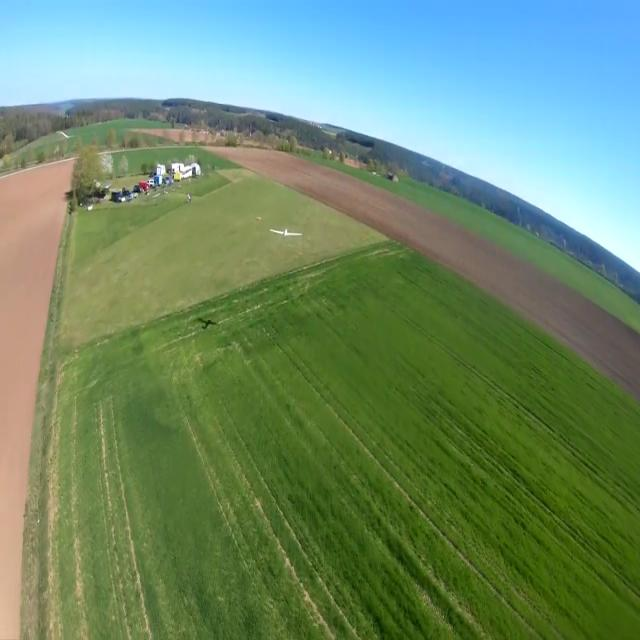iha: (270, 230, 302, 236)
